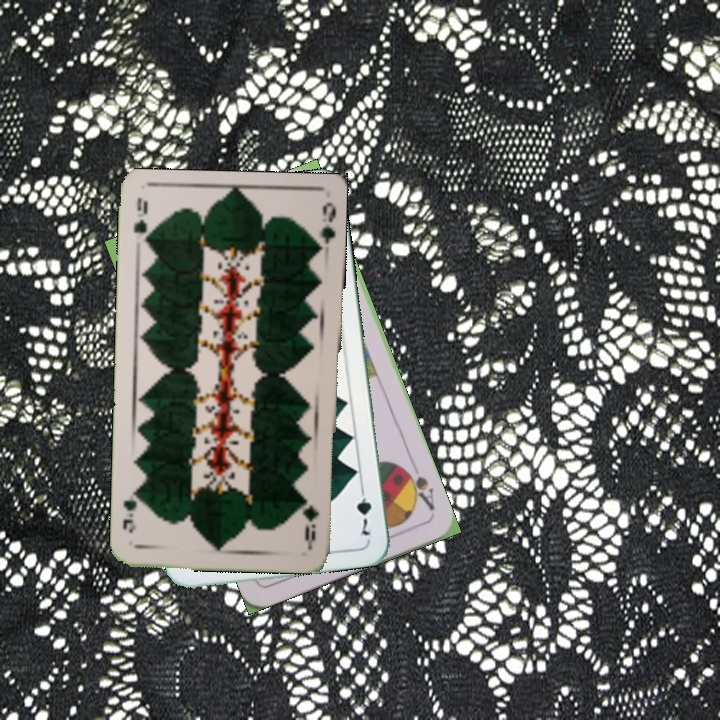G7: (352, 481, 374, 538)
G9: (130, 193, 152, 252), (303, 501, 321, 547)
SA: (399, 459, 438, 513)
